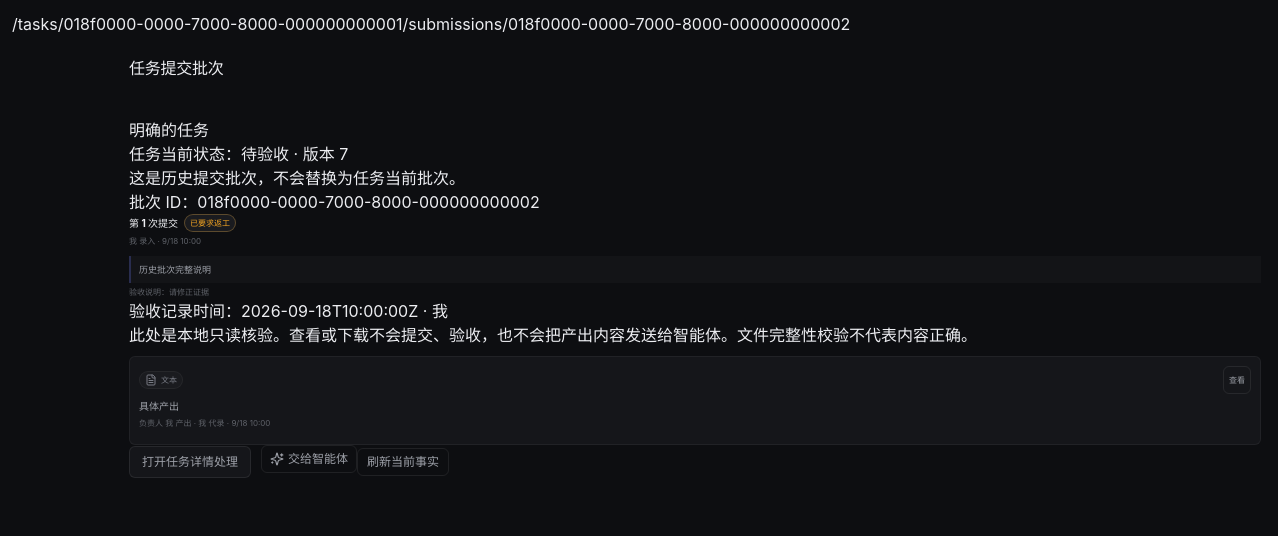
Test: exact submission navigation › keeps refreshed artifact evidence hidden while fetching and on cross-batch mismatch
Expected: the text "历史批次完整说明" is shown, [129,256,1261,283]
Step 1. Click the button with aria-label "查看产出" → (1237, 380), box [1223,366,1251,394]
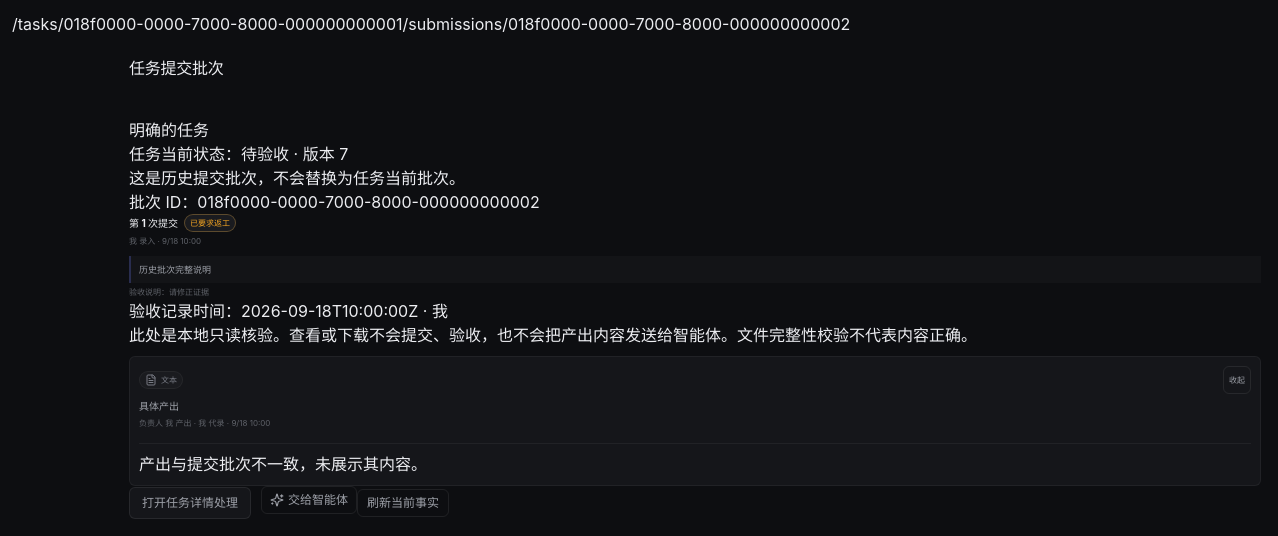
Result: the text "产出与提交批次不一致，未展示其内容。" is shown at [139,454,427,474]
